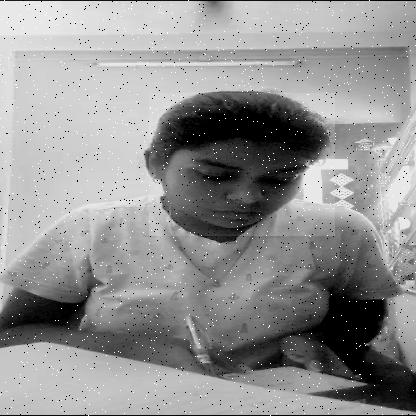Normal: (149, 93, 335, 236)
